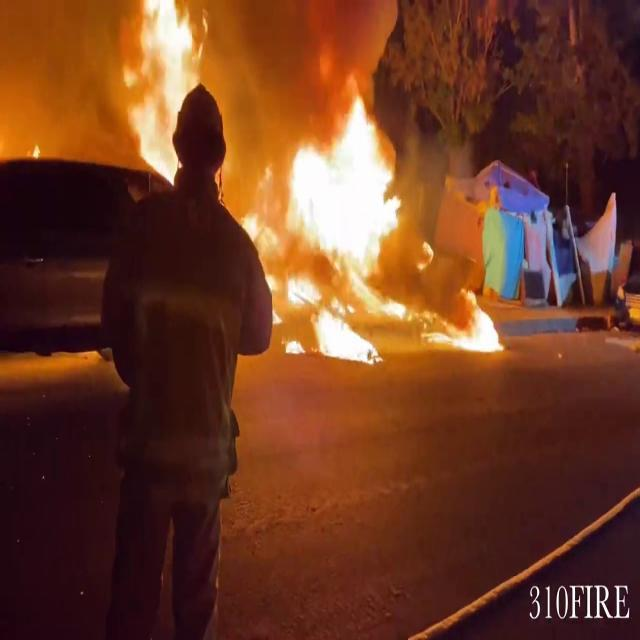Fire: (270, 76, 426, 365), (116, 0, 206, 181), (453, 289, 512, 361)
